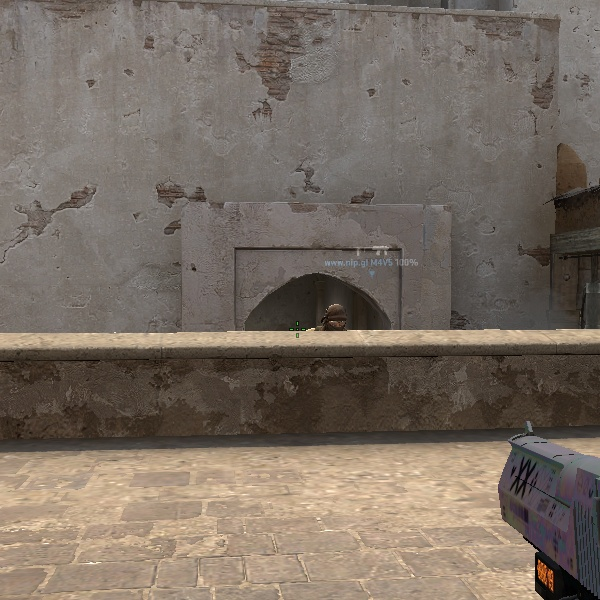t_body: (307, 300, 352, 332)
t_head: (322, 304, 347, 331)
